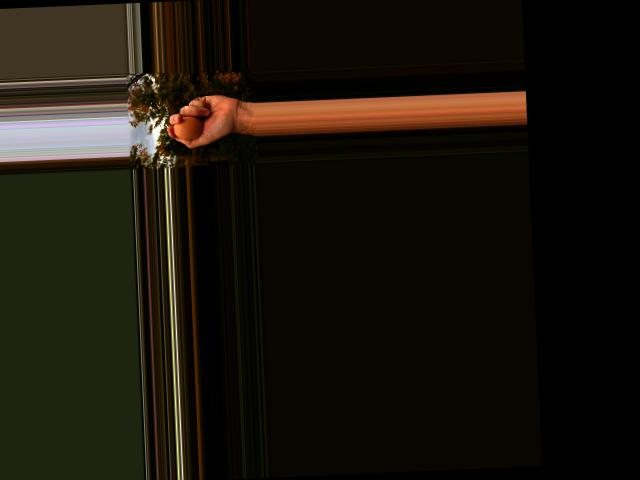egg: (172, 114, 203, 139)
